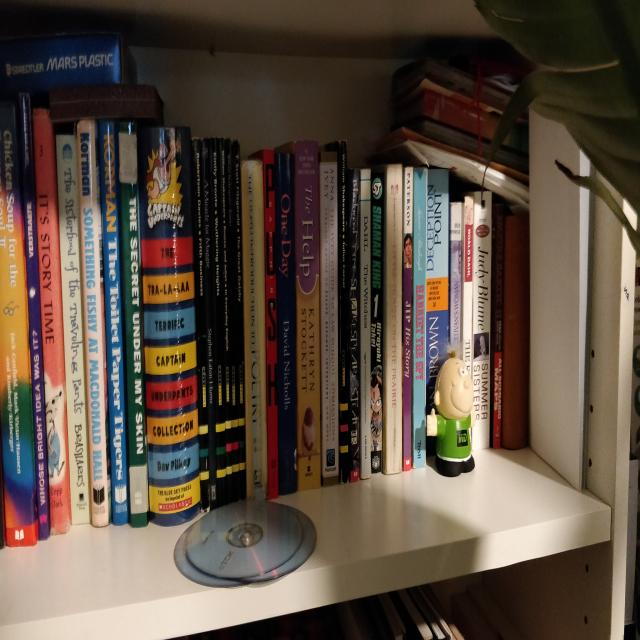book: (27, 98, 74, 546), (0, 94, 40, 558), (16, 82, 54, 551), (0, 32, 134, 92)
